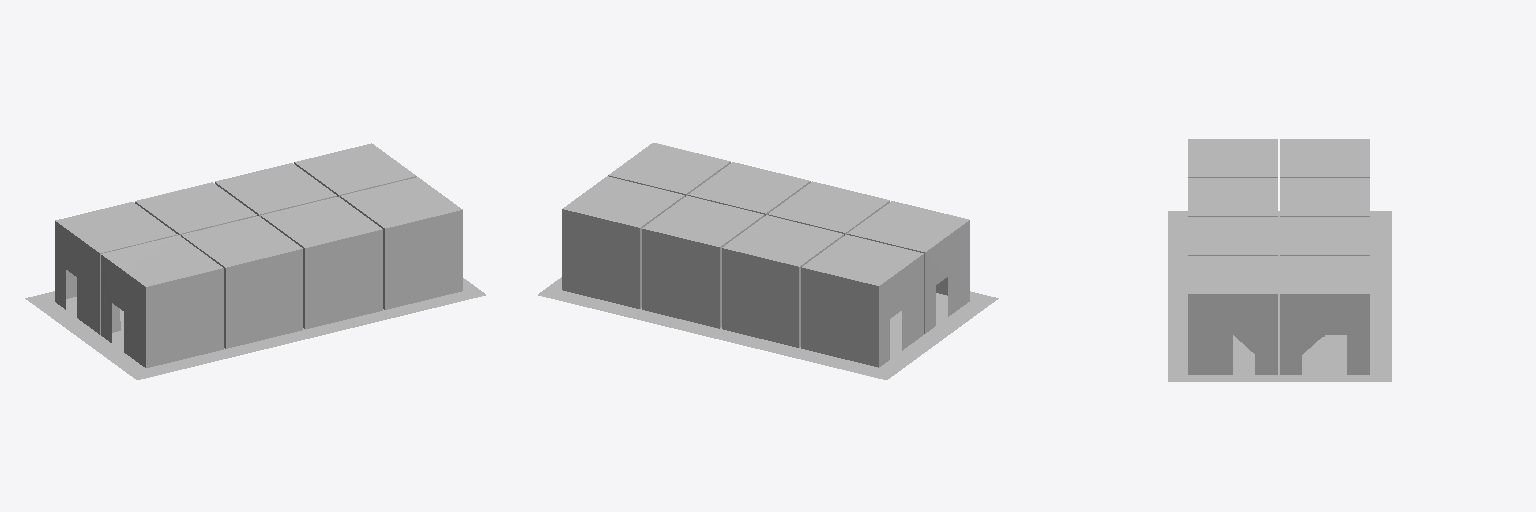
The model's file is museum1.obj.
3 views of the same model, side by side, from view 1: azimuth 30°, elevation 25°; view 2: azimuth 150°, elevation 25°; view 3: azimuth 270°, elevation 25° (orthographic).
Visible parts, largest first — view 1: Cube.004, Plane; view 2: Cube.004, Plane; view 3: Cube.004, Plane.
Boxes of the visible parts, <box> form: Cube.004: <box>55,143,462,367</box>; Plane: <box>25,278,485,379</box>; Cube.004: <box>562,143,969,367</box>; Plane: <box>538,277,998,379</box>; Cube.004: <box>1188,139,1369,374</box>; Plane: <box>1168,211,1391,381</box>.
Bounding box in the file's own units: 9 × 2 × 5.